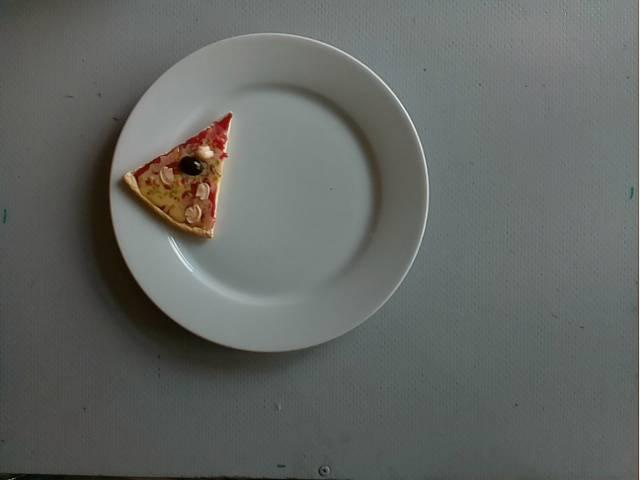Pizza slice (mushroom): (124, 112, 232, 238)
